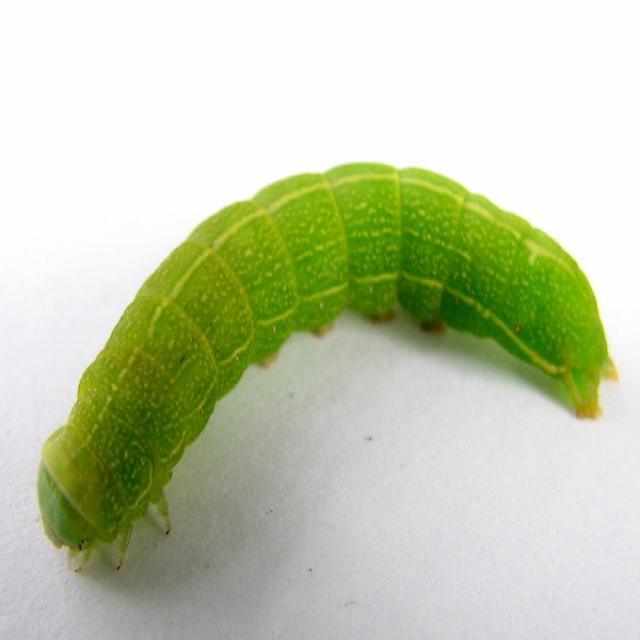caterpillar: (34, 160, 626, 572)
